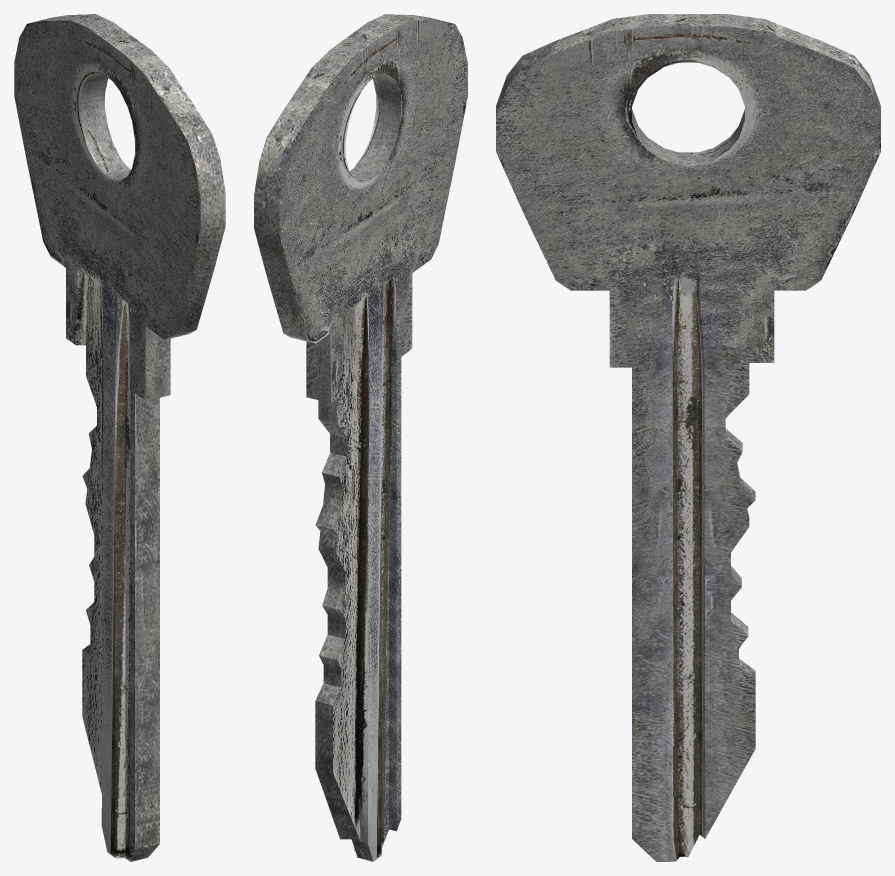
File: key.fbx
The picture shows the model from 3 angles, left to right: view 1: azimuth 30°, elevation 25°; view 2: azimuth 150°, elevation 25°; view 3: azimuth 270°, elevation 25°; orthographic projection. The views are drawn at different scales.
Parts seen in each view (by area): view 1: obj,Key; view 2: obj,Key; view 3: obj,Key.
Boxes of the visible parts, x1=… form: obj,Key: x1=14, y1=14, x2=225, y2=861; obj,Key: x1=254, y1=14, x2=467, y2=861; obj,Key: x1=496, y1=14, x2=880, y2=861.
Bounding box in the file's own units: 9.97 × 308 × 129.
Materials: 1 (1 with a texture image).
